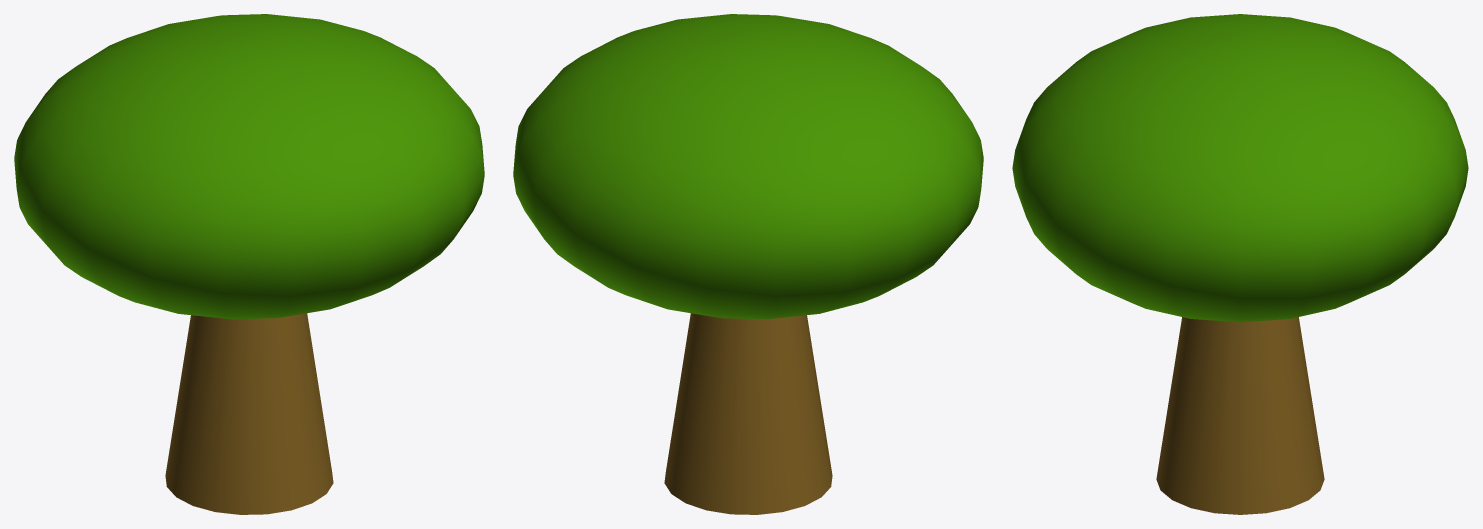
File: simpleTreeA2.fbx
3 renders of one model, left to right at view 1: azimuth 30°, elevation 25°; view 2: azimuth 150°, elevation 25°; view 3: azimuth 270°, elevation 25°, orthographic.
Parts seen in each view (by area): view 1: pSphere1, pCylinder1; view 2: pSphere1, pCylinder1; view 3: pSphere1, pCylinder1.
Boxes of the visible parts, x1,y1,x2,y2 form: pSphere1: [14, 14, 484, 319]; pCylinder1: [165, 313, 333, 514]; pSphere1: [513, 14, 983, 319]; pCylinder1: [664, 313, 832, 514]; pSphere1: [1012, 14, 1468, 322]; pCylinder1: [1156, 317, 1324, 514].
Bounding box in the file's own units: 20.42 × 20.23 × 19.52.
